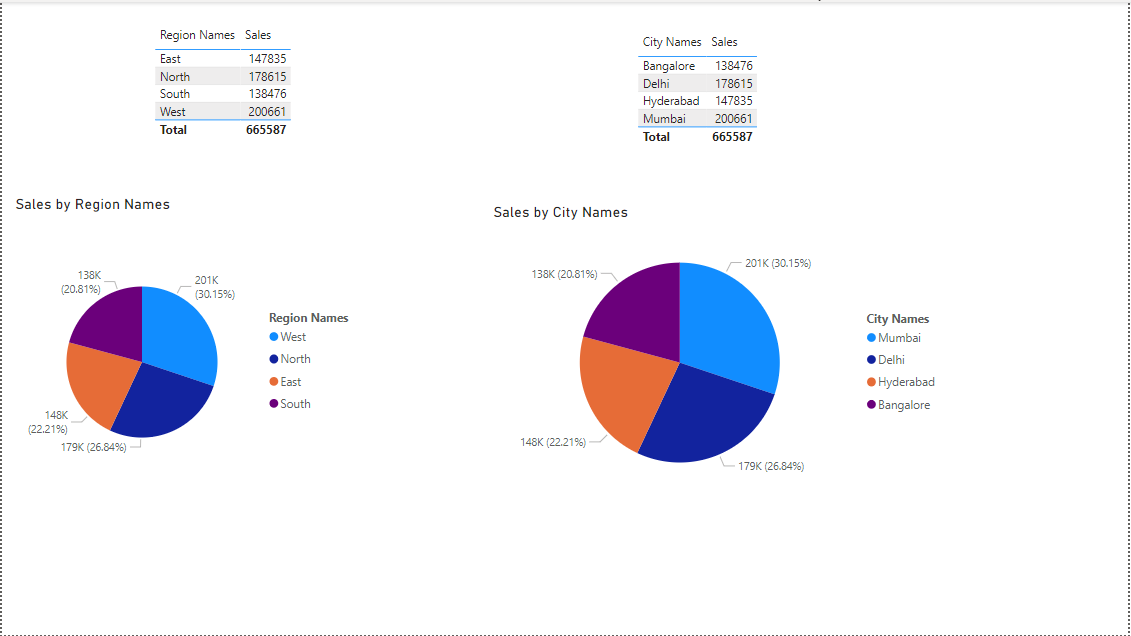

The page's visual inventory and layout, read from the dashboard file:
{"tool":"powerbi","page":{"name":"Page 1","canvas":[1280,720],"ordinal":0},"visuals":[{"type":"tableEx","fields":{"Values":["region daat.Region Names","Sum(Sales data.Sales)"]},"box":[168.4,0,173.5,159.4],"z":0},{"type":"tableEx","fields":{"Values":["City data.City Names","Sum(Sales data.Sales)"]},"box":[714.5,0,147.8,142.7],"z":1000},{"type":"pieChart","fields":{"Category":["region daat.Region Names"],"Y":["Sum(Sales data.Sales)"]},"box":[10.3,219.8,406.1,361.1],"z":2000},{"type":"pieChart","fields":{"Category":["City data.City Names"],"Y":["Sum(Sales data.Sales)"]},"box":[553.9,228.8,524.3,344.4],"z":3000}]}

Visuals, with their boxes in screenshot pixels (x1, y1, x2, y2), scaled from the page's 1280x720 canvas onto the 1131x636 screenshot:
tableEx - region daat.Region Names x Sum(Sales data.Sales): (left=149, top=0, right=302, bottom=141)
tableEx - City data.City Names x Sum(Sales data.Sales): (left=631, top=0, right=762, bottom=126)
pieChart - region daat.Region Names x Sum(Sales data.Sales): (left=9, top=194, right=368, bottom=513)
pieChart - City data.City Names x Sum(Sales data.Sales): (left=489, top=202, right=953, bottom=506)
